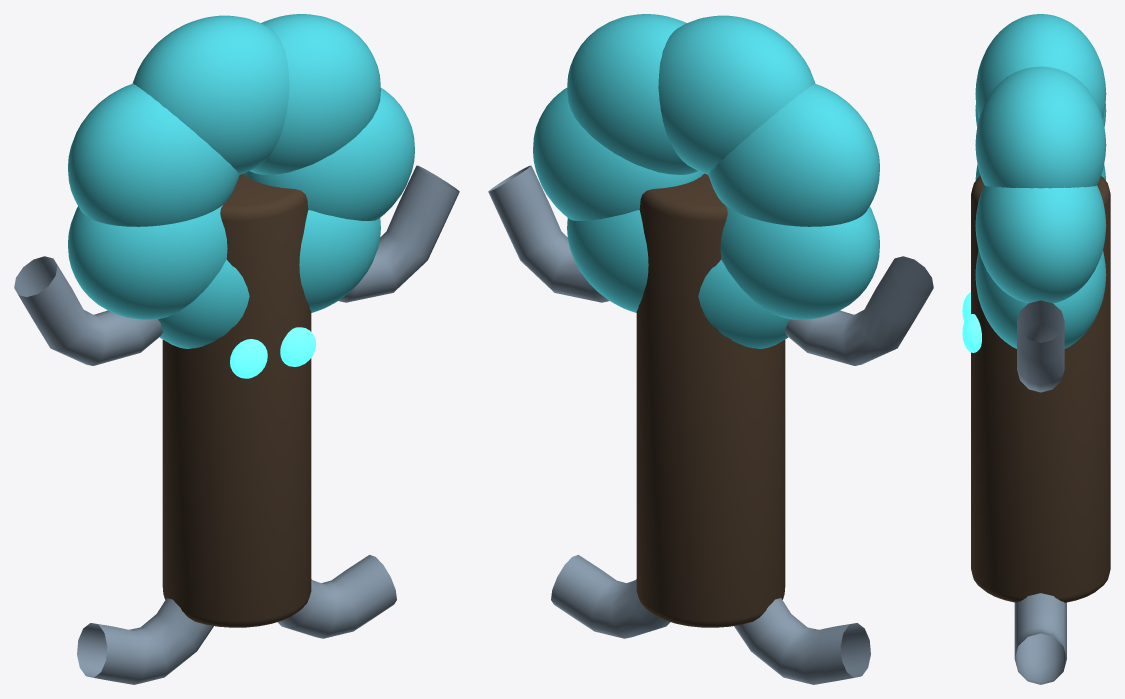
File: plant_v3.glb
3 renders of one model, left to right at view 1: azimuth 30°, elevation 25°; view 2: azimuth 150°, elevation 25°; view 3: azimuth 270°, elevation 25°, orthographic. The views are drawn at different scales.
Visible parts, largest first — view 1: TREANT_TRUNK_SECONDARY, TREANT_CROWN_ACCENT.003, TREANT_CROWN_ACCENT.002, TREANT_CROWN_ACCENT.004, TREANT_CROWN_ACCENT.001, TREANT_CROWN_ACCENT, TREANT_ARM_PRIMARY, TREANT_ROOT_PRIMARY, TREANT_ARM_PRIMARY.001, TREANT_CROWN_ACCENT.006, TREANT_ROOT_PRIMARY.001, TREANT_CROWN_ACCENT.005 (+2 smaller); view 2: TREANT_TRUNK_SECONDARY, TREANT_CROWN_ACCENT.003, TREANT_CROWN_ACCENT.002, TREANT_CROWN_ACCENT.004, TREANT_CROWN_ACCENT.001, TREANT_CROWN_ACCENT, TREANT_ARM_PRIMARY, TREANT_ROOT_PRIMARY, TREANT_ARM_PRIMARY.001, TREANT_CROWN_ACCENT.006, TREANT_ROOT_PRIMARY.001, TREANT_CROWN_ACCENT.005; view 3: TREANT_TRUNK_SECONDARY, TREANT_CROWN_ACCENT.001, TREANT_CROWN_ACCENT, TREANT_CROWN_ACCENT.002, TREANT_ROOT_PRIMARY.001, TREANT_CROWN_ACCENT.006, TREANT_ARM_PRIMARY.001, EYE_EMISSIVE.001.
Boxes of the visible parts, x1,y1,x2,y2 form: TREANT_TRUNK_SECONDARY: (162,173,311,627); TREANT_CROWN_ACCENT.003: (68,83,239,226); TREANT_CROWN_ACCENT.002: (132,15,289,174); TREANT_CROWN_ACCENT.004: (68,205,227,319); TREANT_CROWN_ACCENT.001: (250,14,380,174); TREANT_CROWN_ACCENT: (244,88,414,220); TREANT_ARM_PRIMARY: (14,256,162,365); TREANT_ROOT_PRIMARY: (77,598,213,684); TREANT_ARM_PRIMARY.001: (338,165,459,302); TREANT_CROWN_ACCENT.006: (299,210,380,312); TREANT_ROOT_PRIMARY.001: (277,555,396,638); TREANT_CROWN_ACCENT.005: (158,259,249,348); TREANT_TRUNK_SECONDARY: (636,173,785,627); TREANT_CROWN_ACCENT.003: (708,83,879,226); TREANT_CROWN_ACCENT.002: (658,15,815,174); TREANT_CROWN_ACCENT.004: (720,205,879,319); TREANT_CROWN_ACCENT.001: (567,14,697,174); TREANT_CROWN_ACCENT: (533,88,703,220); TREANT_ARM_PRIMARY: (785,256,933,365); TREANT_ROOT_PRIMARY: (734,598,870,684); TREANT_ARM_PRIMARY.001: (488,165,609,302); TREANT_CROWN_ACCENT.006: (567,210,648,312); TREANT_ROOT_PRIMARY.001: (551,555,670,638); TREANT_CROWN_ACCENT.005: (698,259,789,348); TREANT_TRUNK_SECONDARY: (971,176,1110,602); TREANT_CROWN_ACCENT.001: (975,66,1106,188); TREANT_CROWN_ACCENT: (975,185,1106,303); TREANT_CROWN_ACCENT.002: (975,14,1106,118); TREANT_ROOT_PRIMARY.001: (1014,593,1066,684); TREANT_CROWN_ACCENT.006: (975,250,1106,348); TREANT_ARM_PRIMARY.001: (1017,300,1064,392); EYE_EMISSIVE.001: (962,314,981,352).
Bounding box in the file's own units: 2.18 × 3.04 × 0.68.
